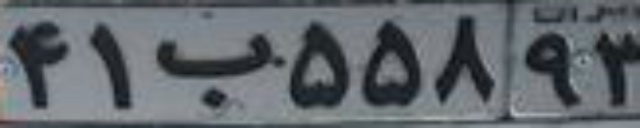1: (85, 22, 136, 109)
3: (596, 33, 639, 108)
4: (2, 19, 74, 109)
5: (288, 21, 350, 108), (359, 22, 421, 105)
8: (430, 15, 498, 104)
9: (521, 31, 584, 106)
be: (156, 31, 274, 109)
